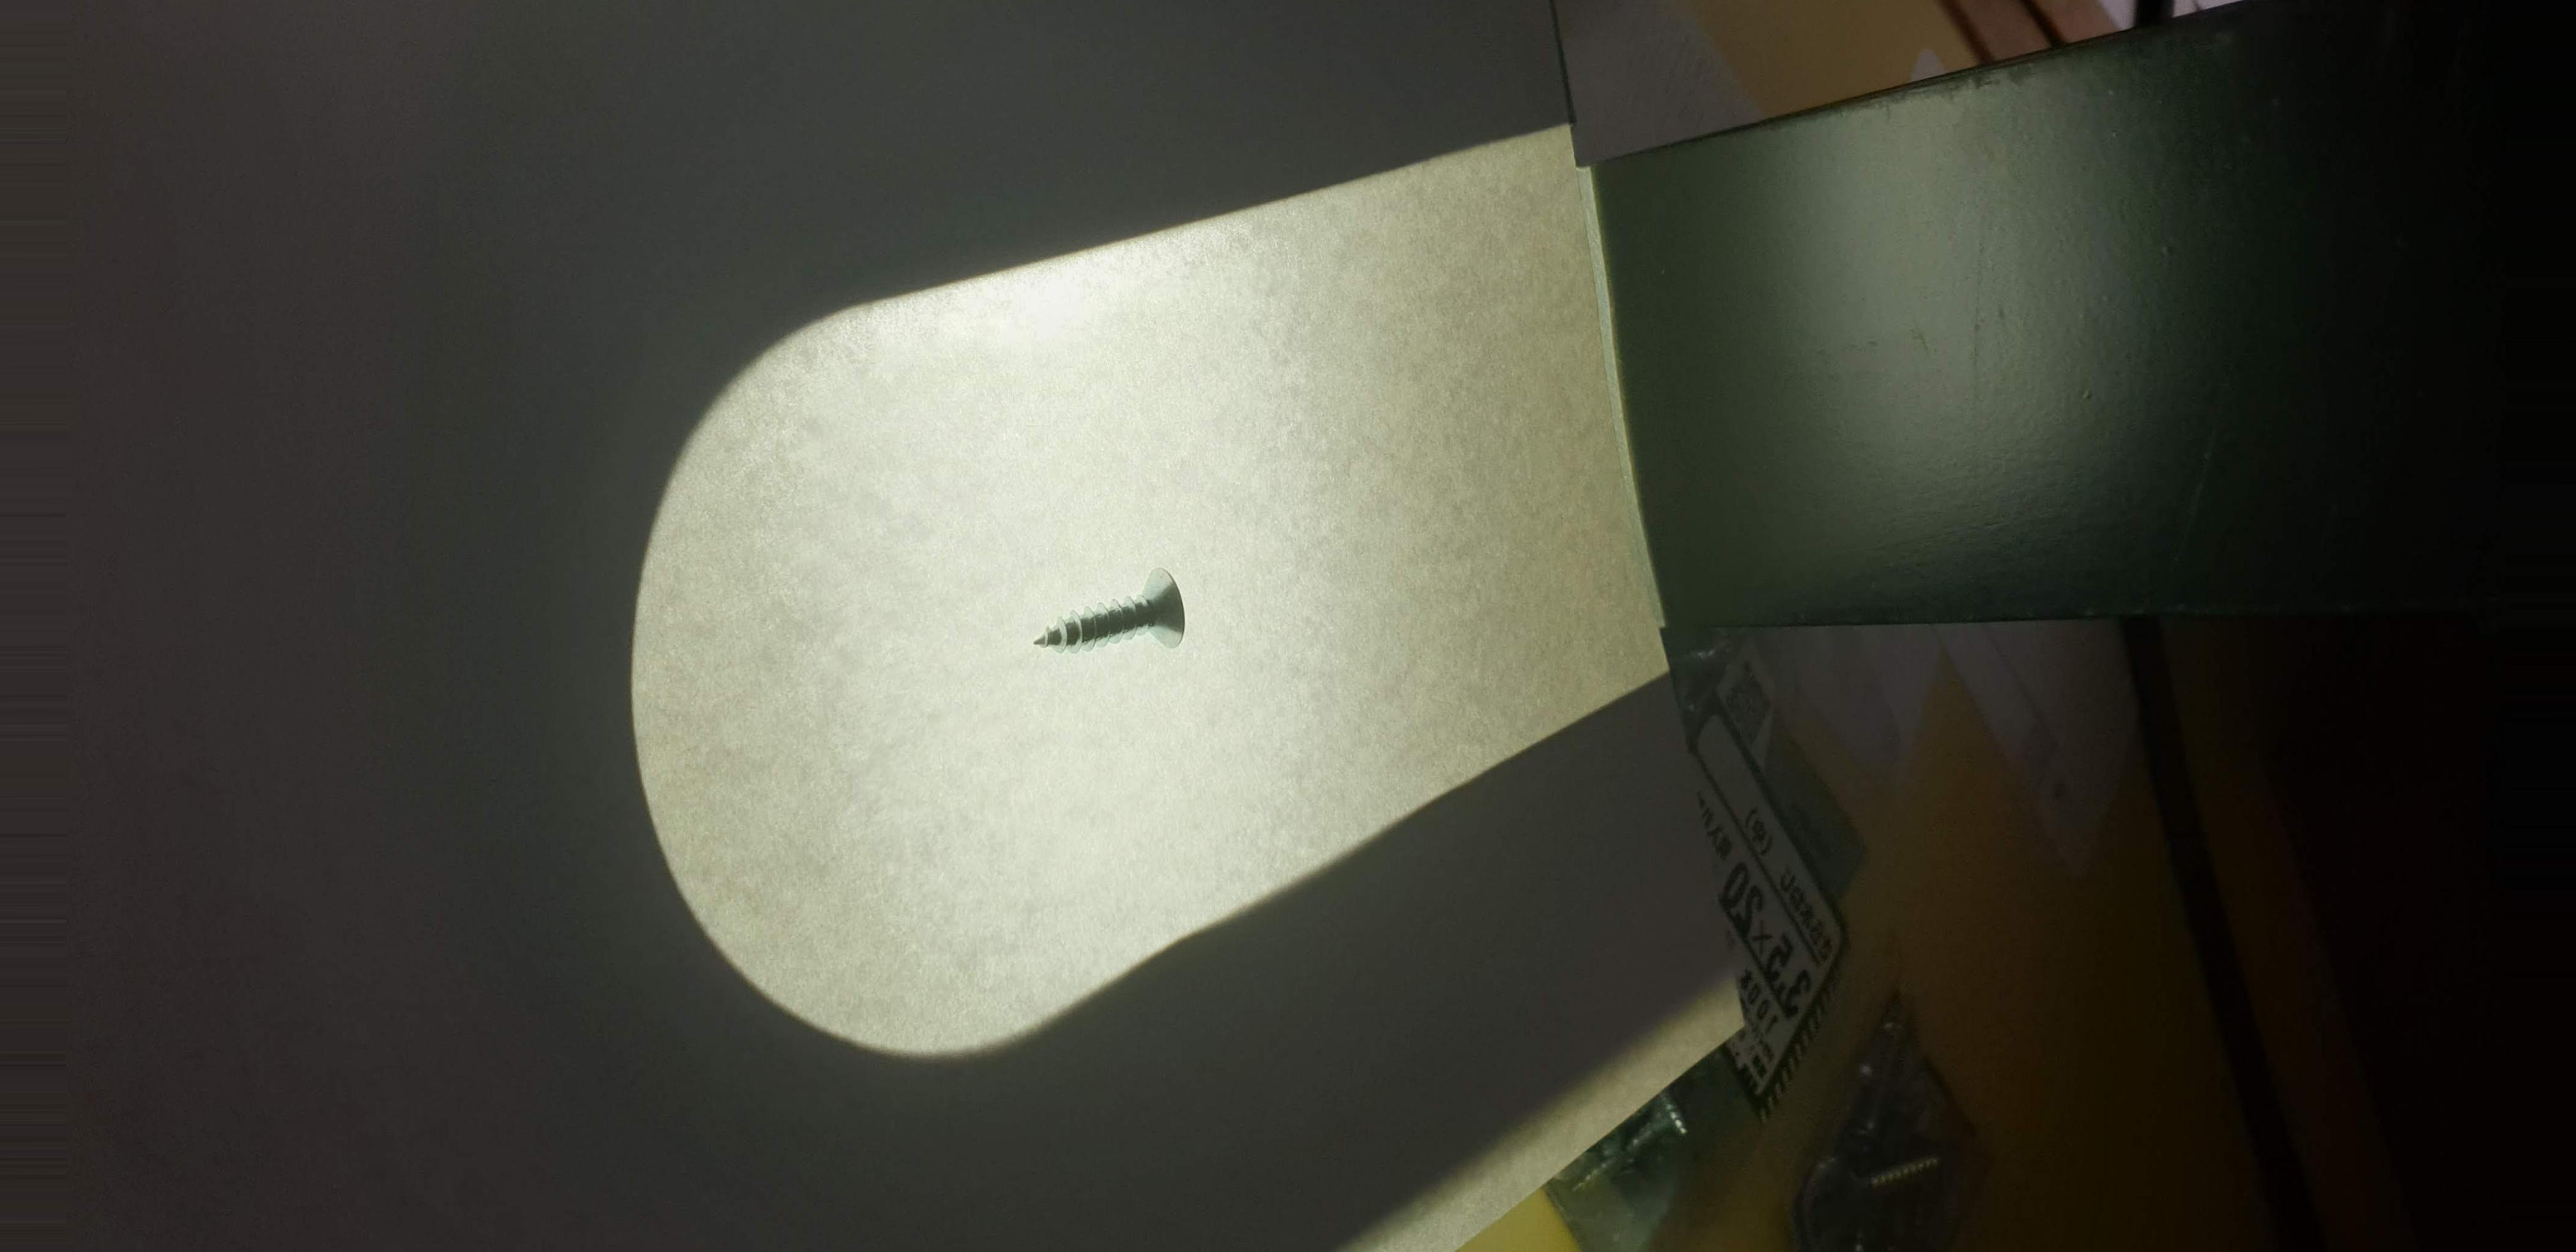S003: (1005, 552, 1216, 677)
